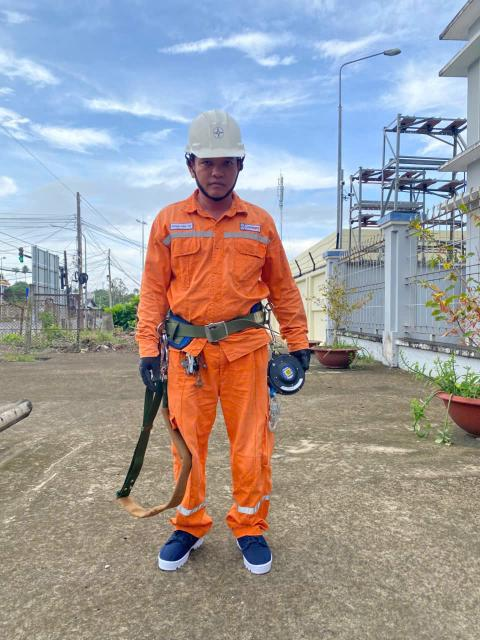gloves: (129, 349, 172, 402), (288, 344, 324, 381)
harness: (132, 299, 285, 346)
helmet: (178, 102, 278, 187)
shoes: (147, 498, 217, 575), (224, 524, 299, 588)
